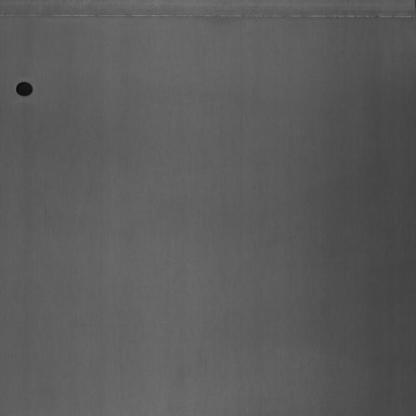punching_hole: (12, 74, 41, 102)
